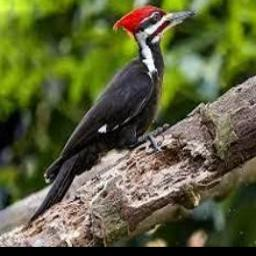Woodpecker: (26, 4, 197, 225)
